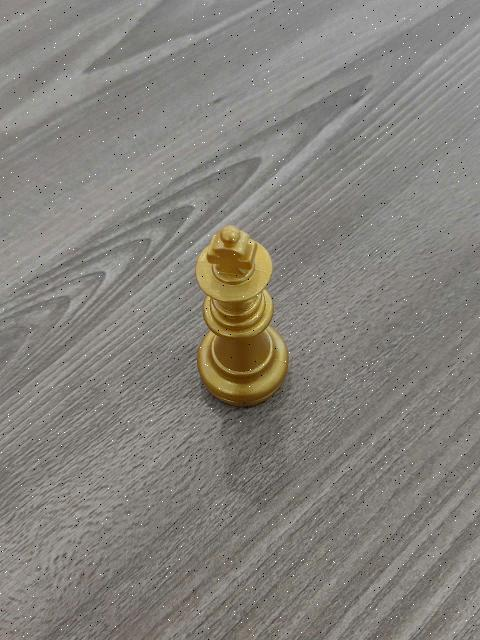black_king: (185, 225, 294, 413)
